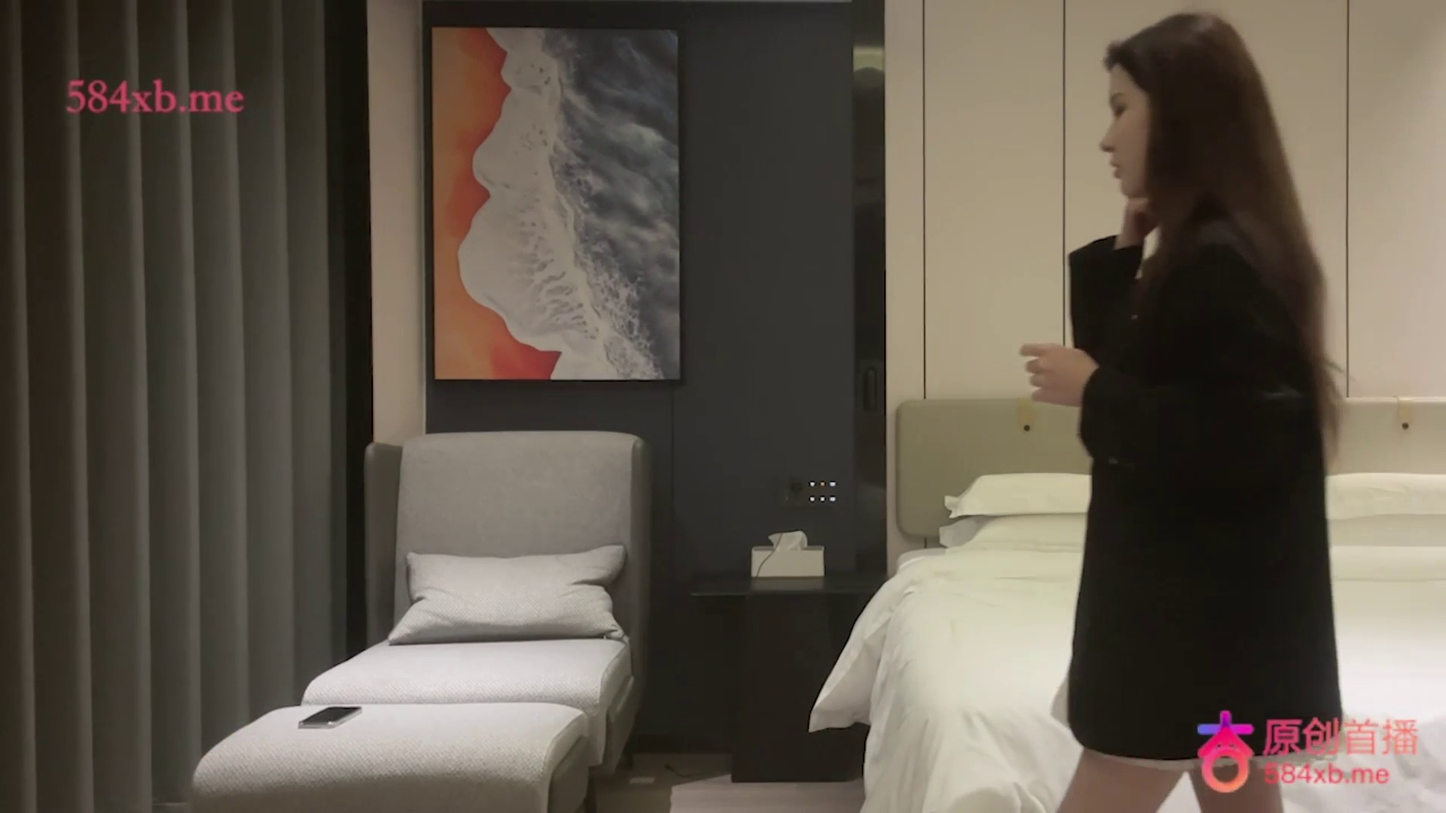stand: (1019, 12, 1347, 803)
